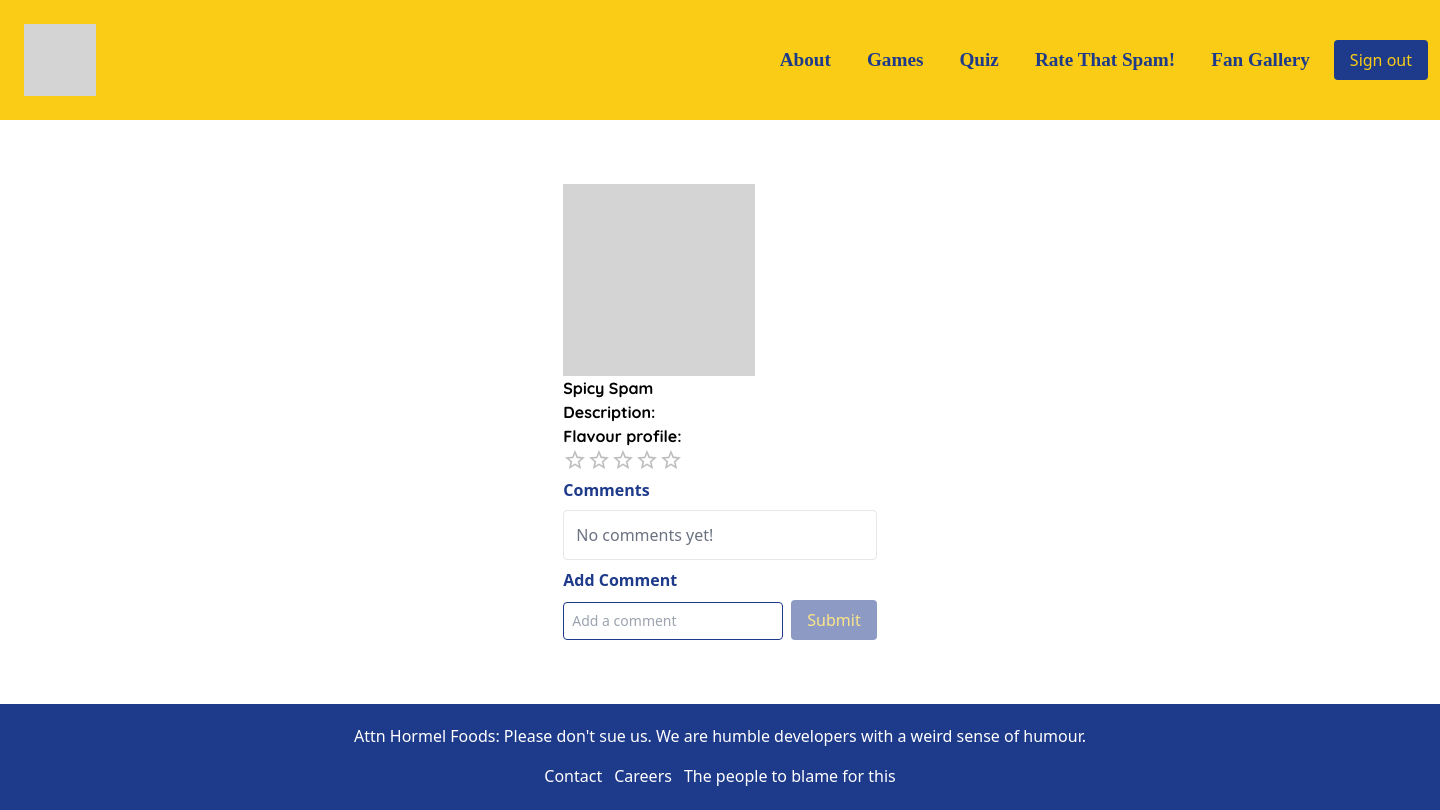
Test: <AddComment> › should add a comment and show it in the list
This screenshot has width=1440, height=810.
In the field labelled "Add a comment": (673, 621) top-left (563, 602), bottom-right (783, 640), type "This one is my new favourite!"
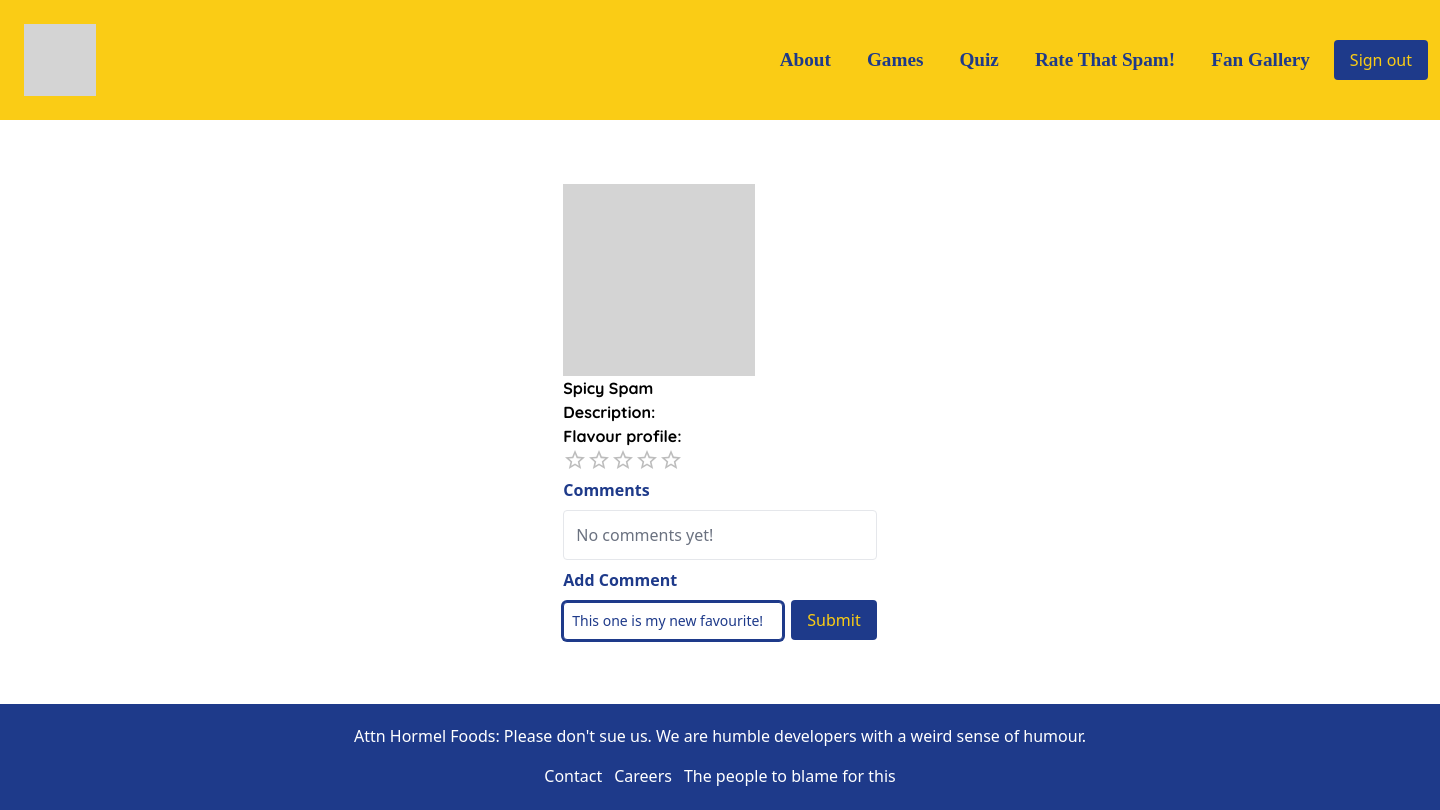
Click the button "Submit": (834, 620) top-left (791, 600), bottom-right (877, 640)
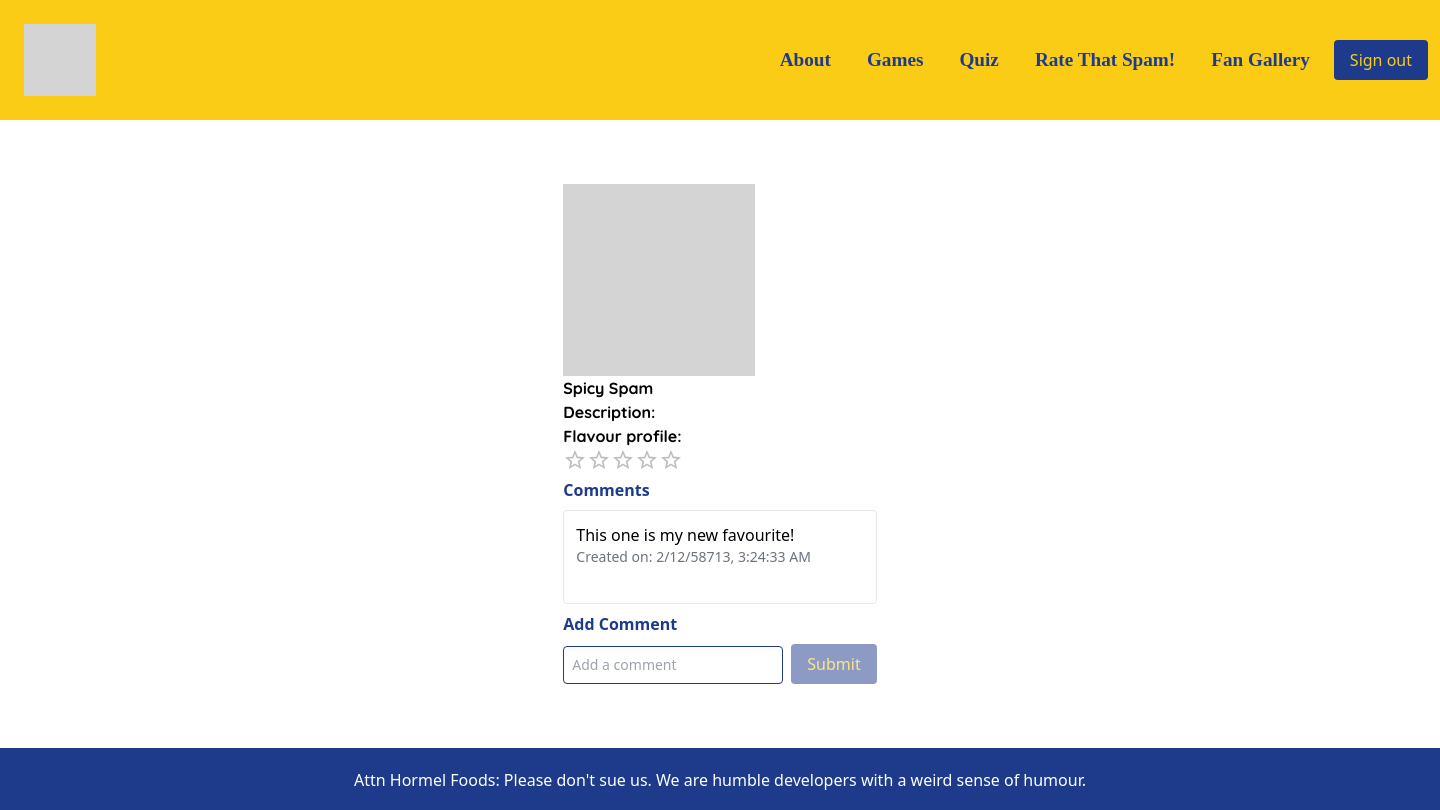
Result: the text "This one is my new favourite!" is shown at top-left (576, 524), bottom-right (794, 546)
